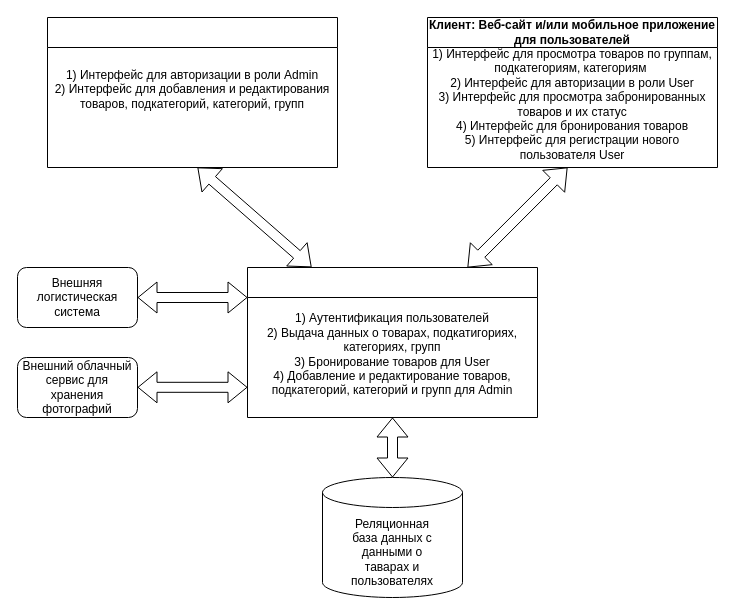
Image size: 735x615. Some labels were removed from this diagram. Each missing label, with the box of its shape:
Клиент: Веб-сайт для администратора: (46, 16, 338, 168)
Сервер: Web API: (246, 266, 538, 418)
